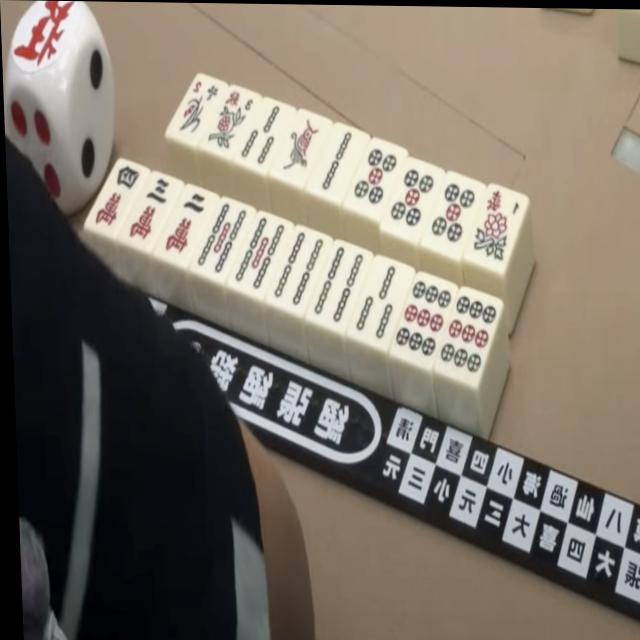f2: (167, 73, 224, 145)
ff3: (200, 83, 259, 157)
m2: (156, 183, 215, 263)
m3: (121, 171, 183, 253)
m4: (85, 157, 149, 239)
s1: (273, 110, 329, 184)
s2: (308, 124, 368, 203)
s3: (349, 255, 413, 346), (234, 98, 293, 173)
s4: (305, 239, 372, 329), (266, 225, 333, 314)
s5: (226, 210, 293, 299), (189, 195, 256, 281)
t5: (422, 169, 487, 252), (382, 154, 447, 236), (345, 139, 408, 216)
t9: (435, 287, 505, 382), (389, 273, 458, 366)
